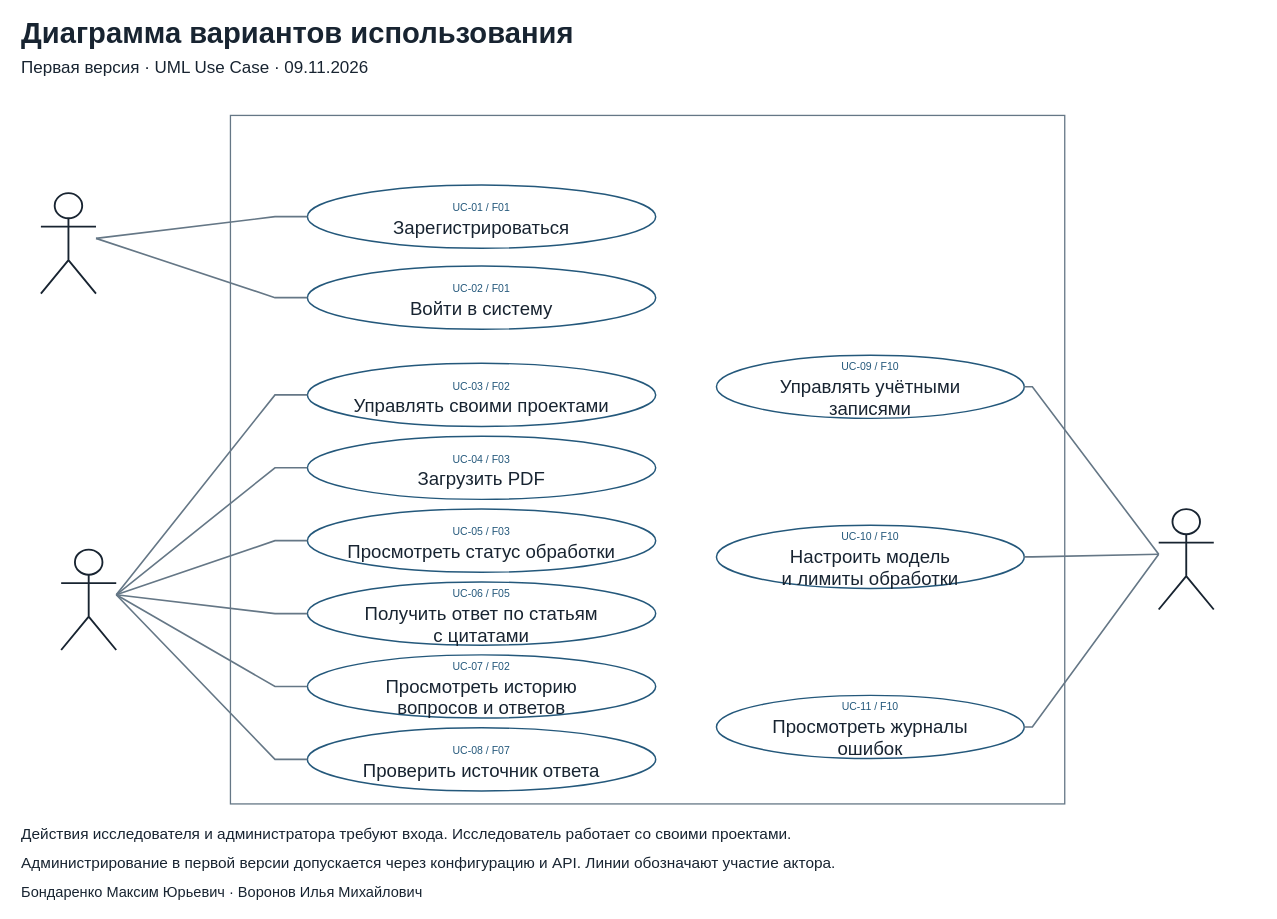
Image size: 1277x919. Some labels were removed from this diagram. The shapes that lost their labels are listed below. From the top down, each one's box as (x1, y1, x2, y2) in pixels, then its label:
(40, 192, 97, 294): Гость
(229, 114, 1065, 804): Веб-сервис анализа научных публикаций
(1157, 508, 1214, 610): Администратор
(60, 548, 117, 651): Исследователь
